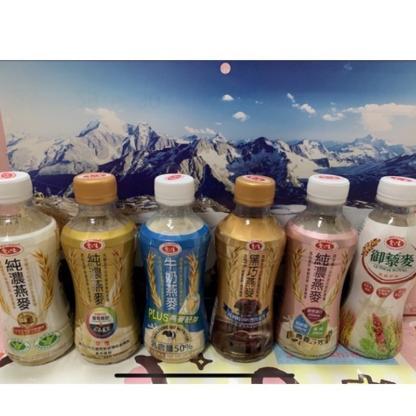Plastic Bottle: (61, 172, 140, 364), (277, 174, 358, 360), (210, 175, 286, 362), (0, 171, 73, 365), (340, 176, 416, 359), (139, 173, 210, 362)
